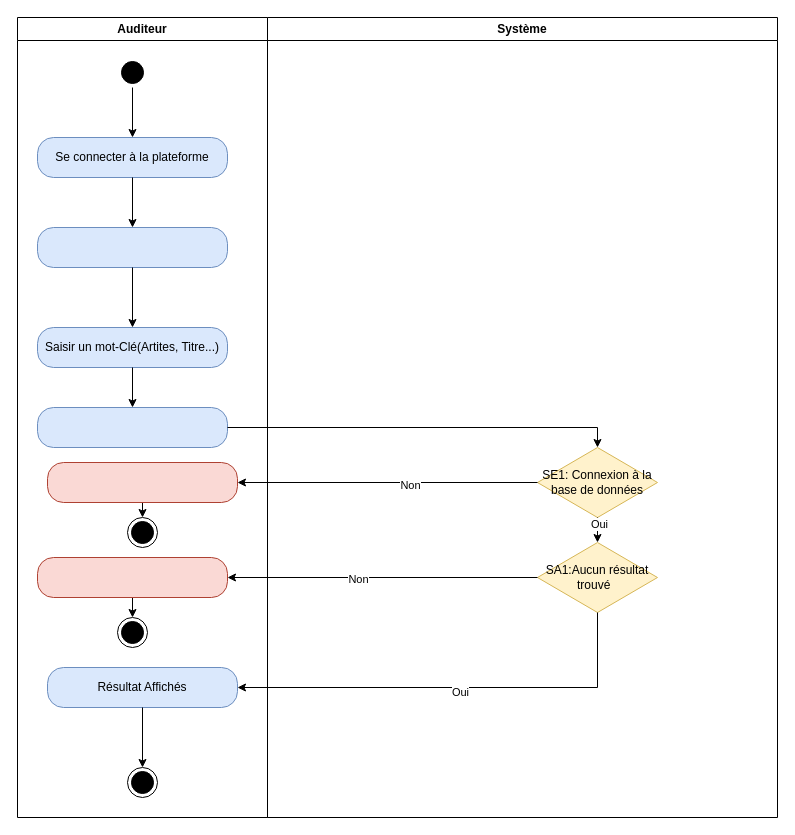
The diagram is 795 pixels wide and 835 high, and some of its shapes have lost their labels. Each missing label, with the centre of its shape:
"Aucun résultat" goes at [132,577].
"Cliquer sur la barre de connexion" goes at [132,247].
"Indiquer la perte de connexion et demander de resaisir les infos" goes at [142,482].
"Lancer la recherche" goes at [132,427].
